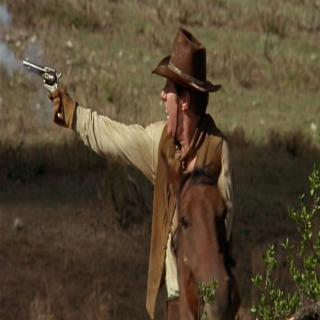gun: (24, 55, 68, 120)
